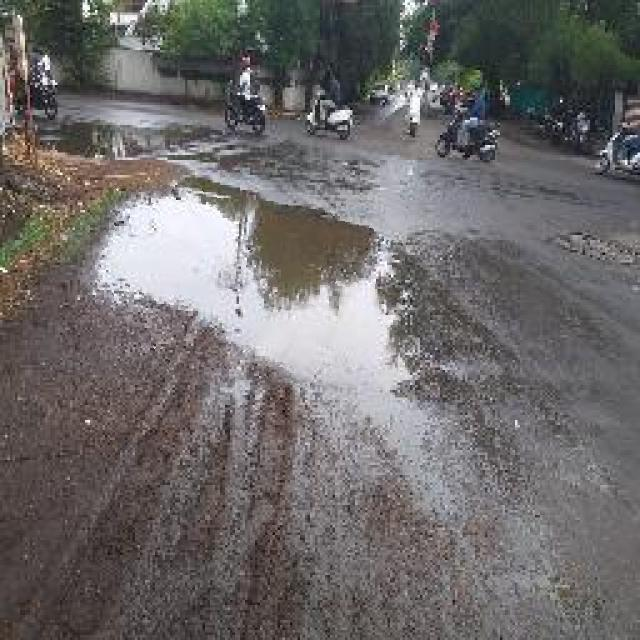puddle: (95, 188, 407, 386)
